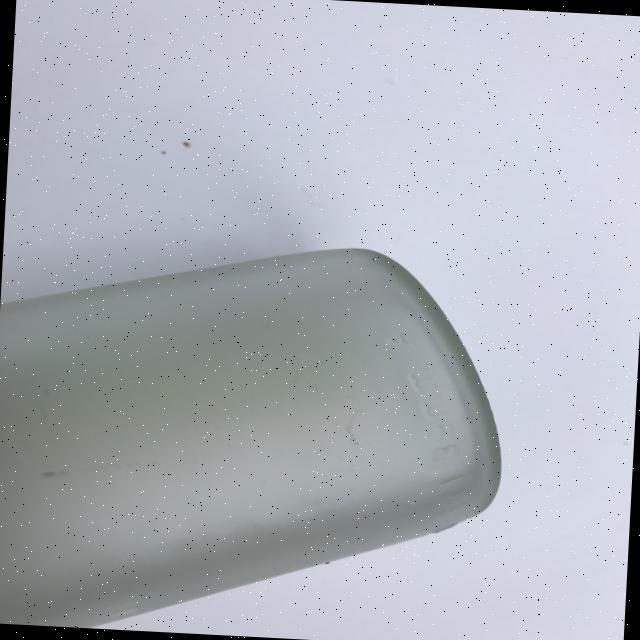glass: (0, 228, 514, 640)
